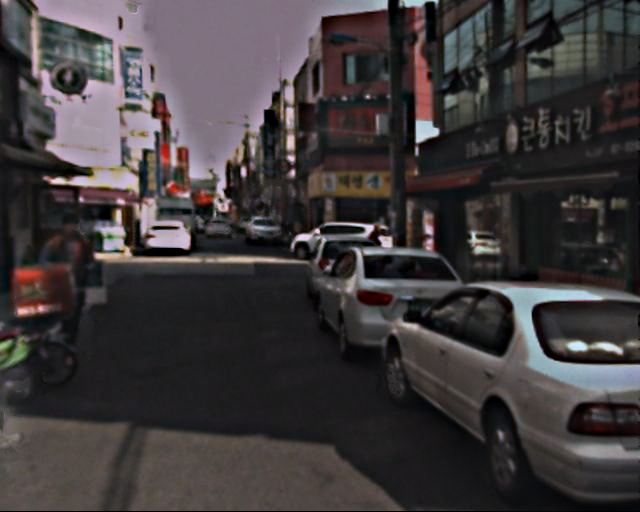person: (43, 210, 107, 363), (366, 222, 385, 269)
